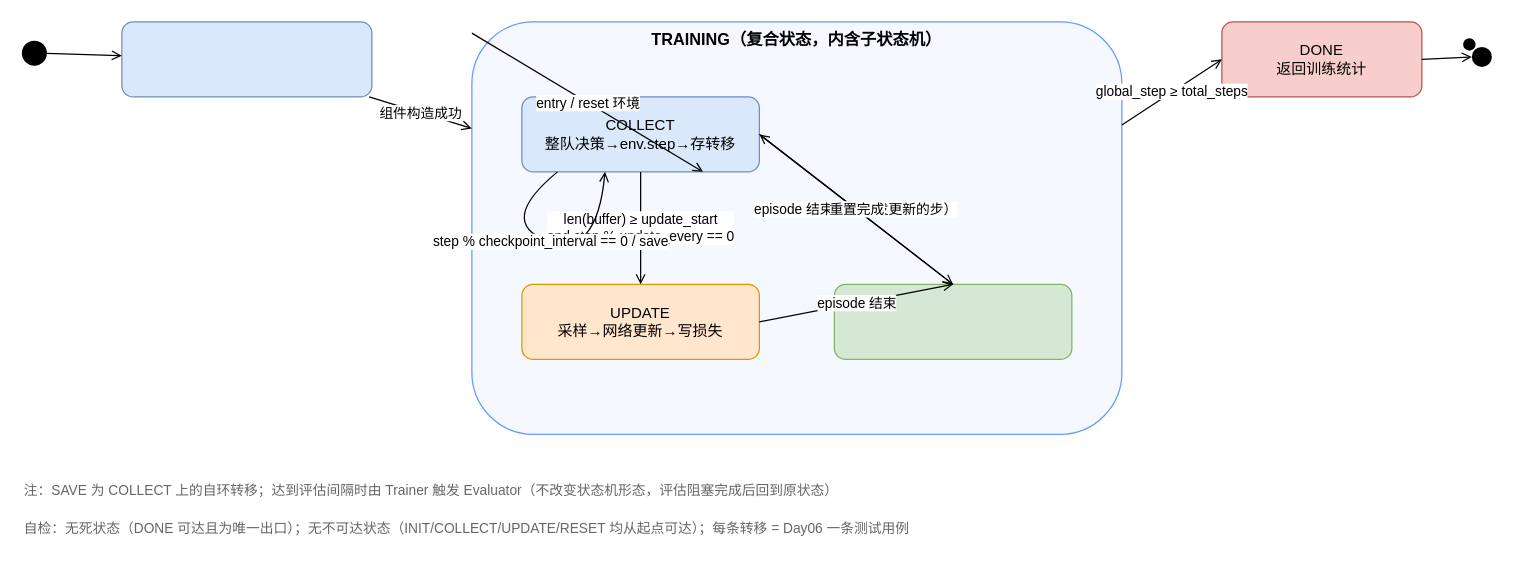
This 1513x569 diagram has some shape labels left out. Here are the shapes that lost their labels. From the top down, the centre of each, then its label:
At (246,59): "INIT 加载配置 · 固定种子 · 构造 env/algo/buffer/logger".
At (952,321): "RESET 局末：写局奖励→env.reset".
